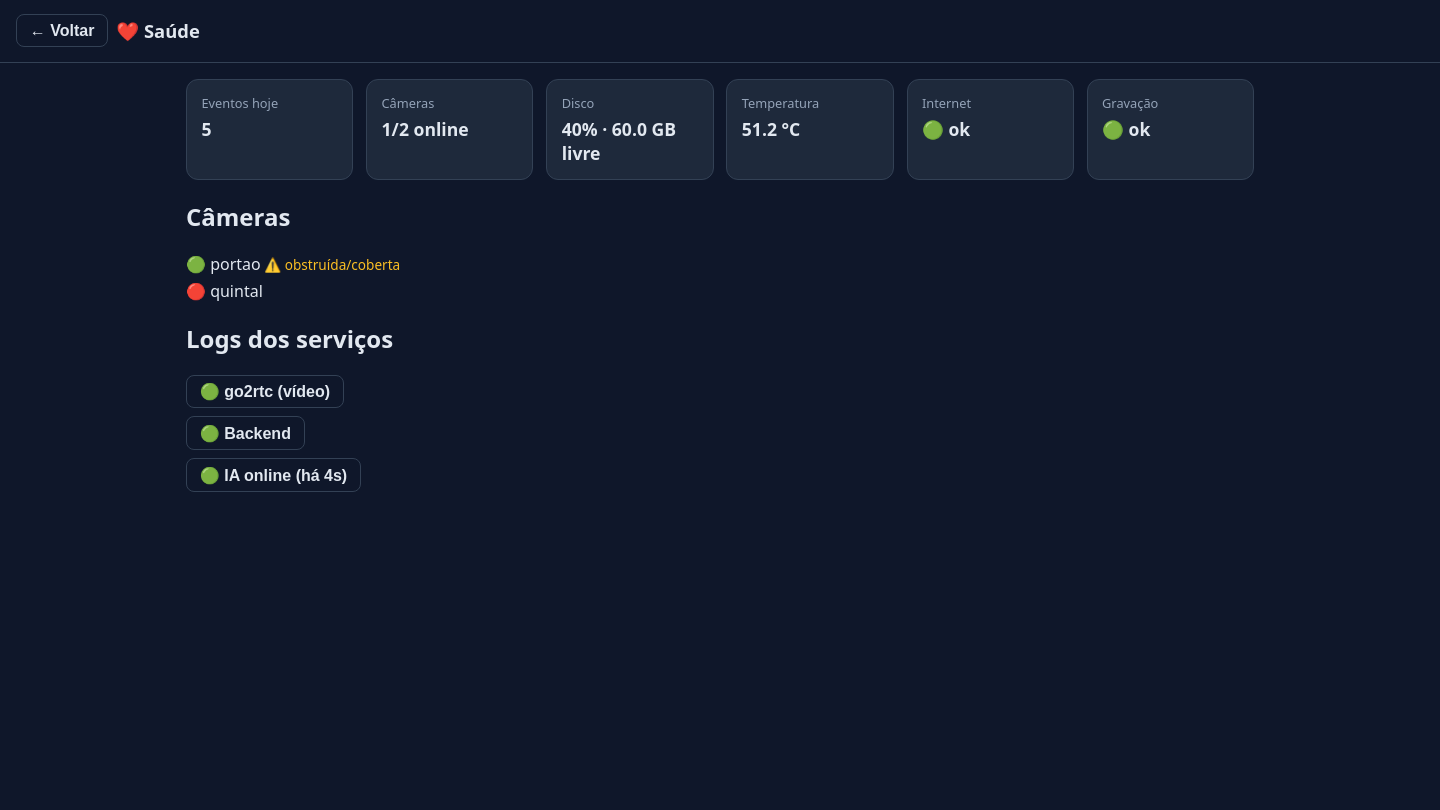
Test: Health › expands and collapses a service log on click
The width and height of the screenshot is (1440, 810).
Click the button "🟢 go2rtc (vídeo)" at (265, 392), box [186, 375, 344, 408]
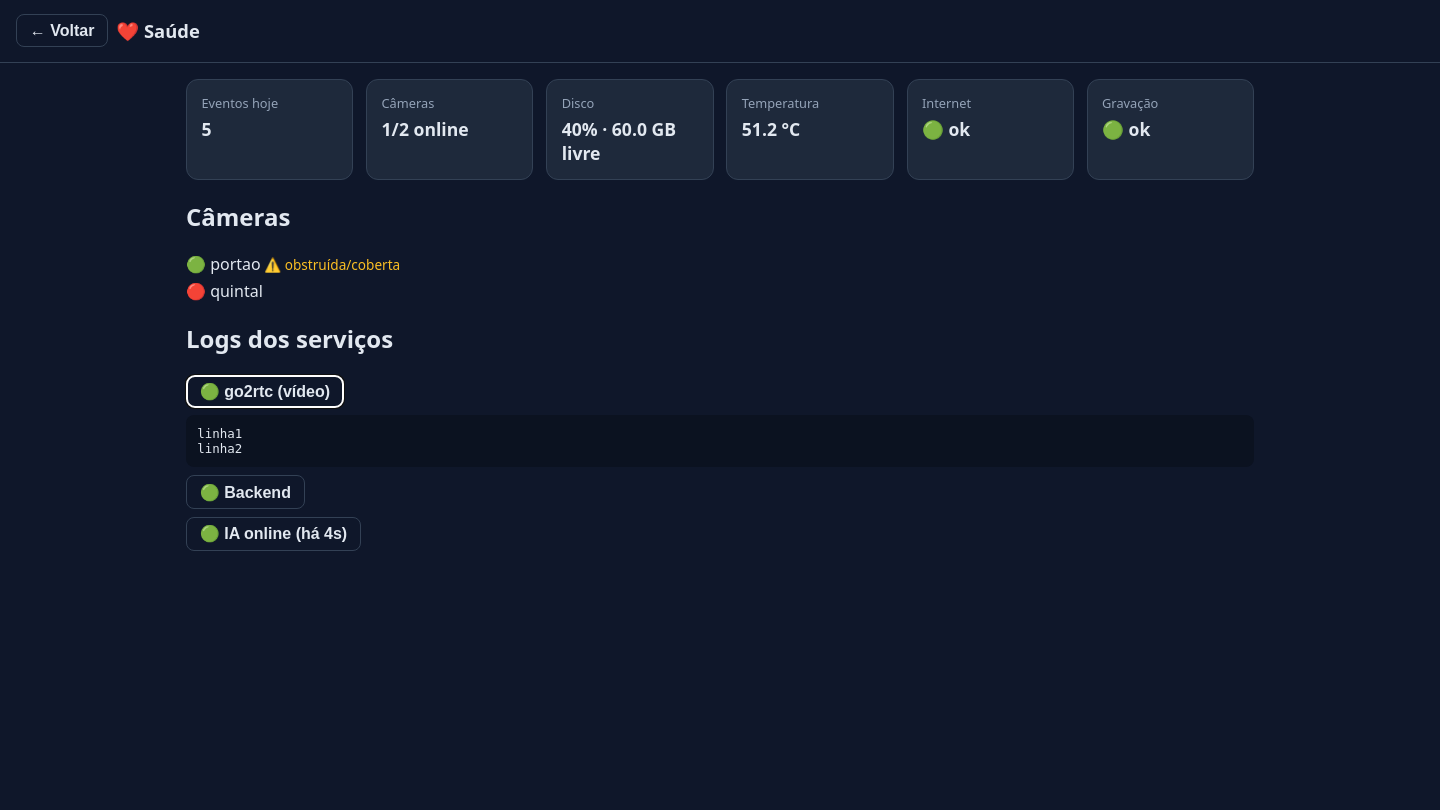
Now the text "linha1 linha2" is shown, box [186, 415, 1254, 467]
Click the button "🟢 go2rtc (vídeo)" at (265, 392), box [186, 375, 344, 408]
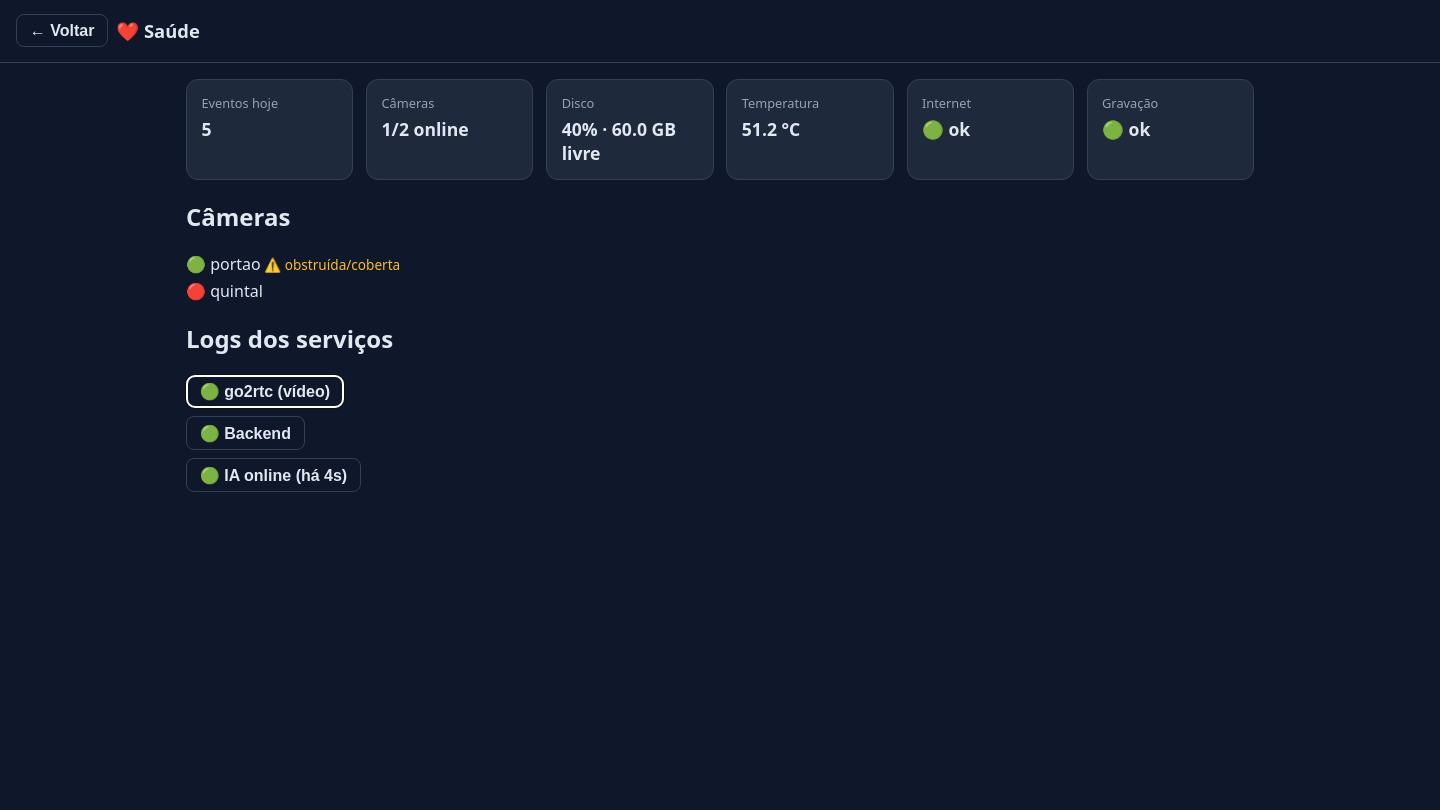
Now the text "linha1" is gone
